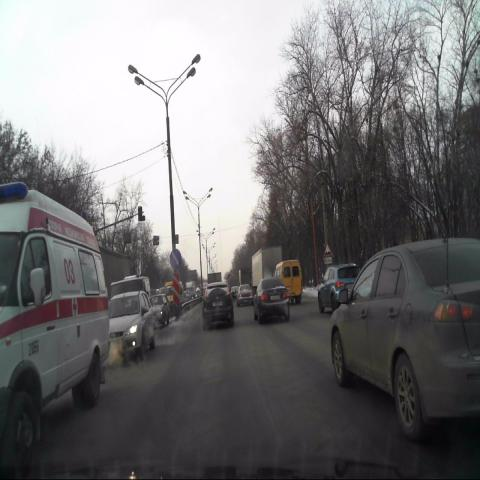4_2_1: (170, 248, 181, 269)
